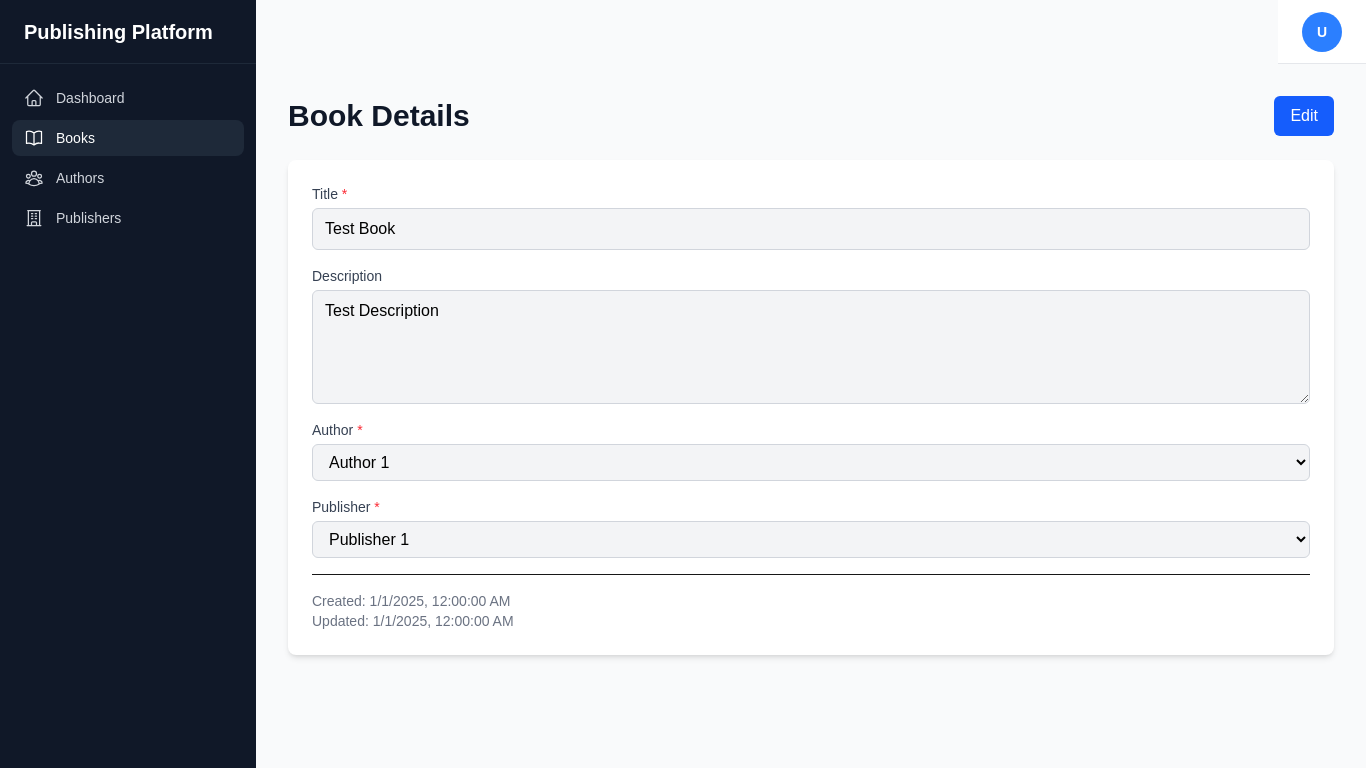
Test case: BookDetailPage › Edit Mode › should show error if required fields are missing
This screenshot has width=1366, height=768.
Click the button "Edit": (1304, 116) [1274,96,1334,136]
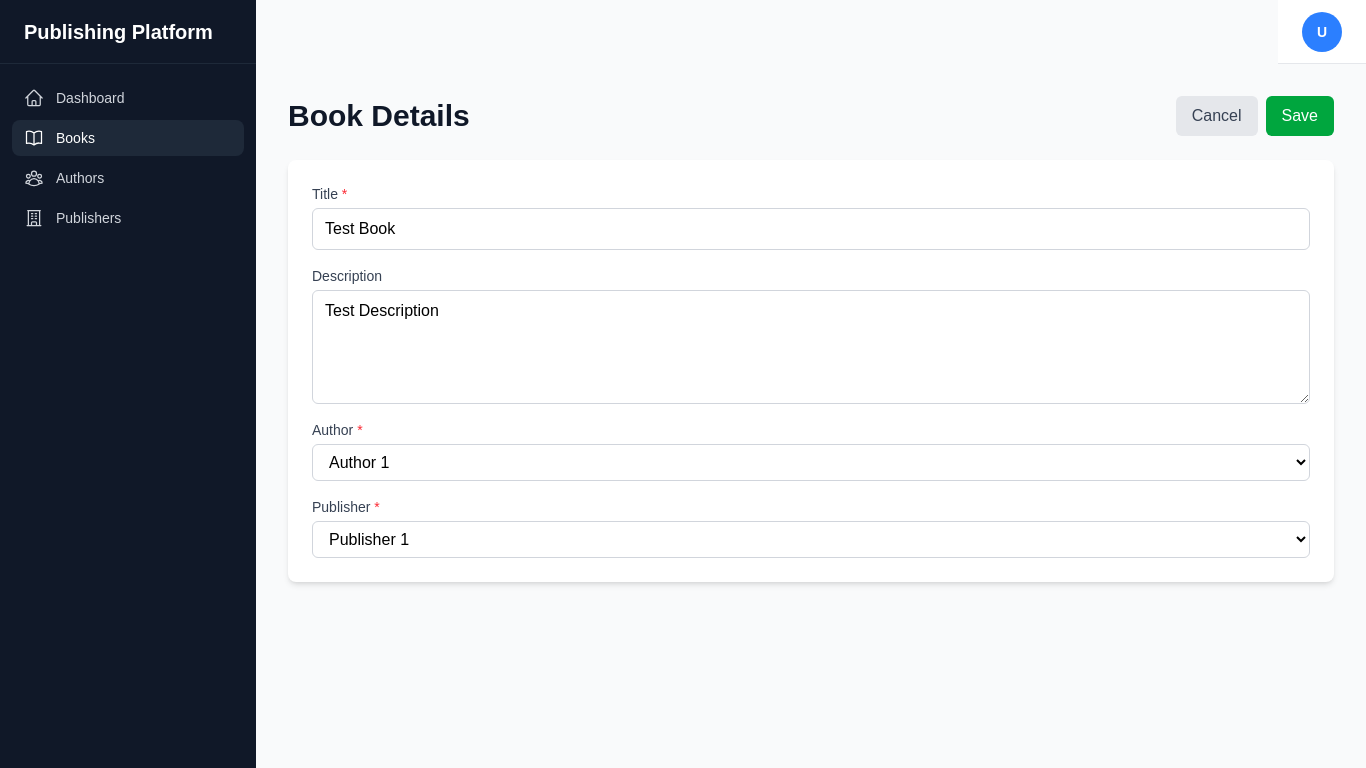
Clear the field showing "Test Book": (811, 229) [312,208,1310,250]
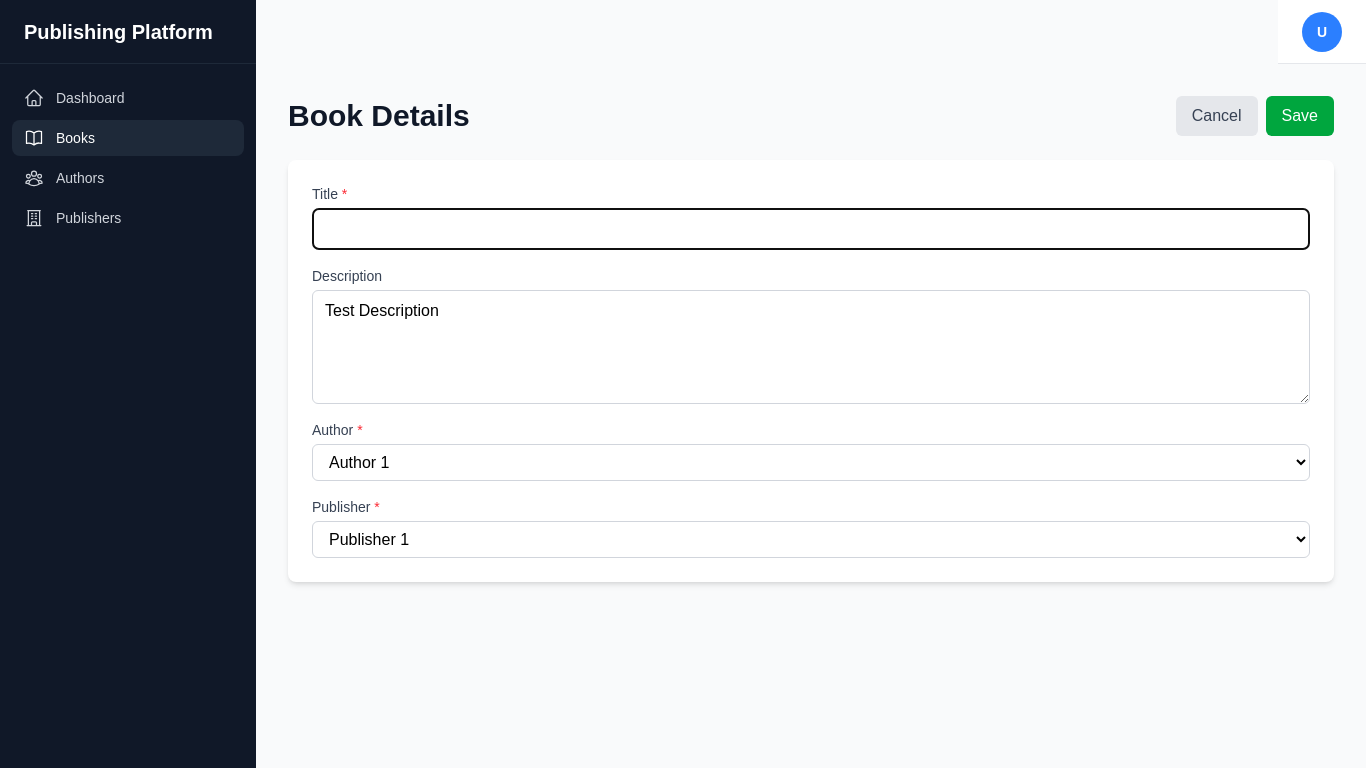
Click the button "Save": (1300, 116) [1266,96,1334,136]
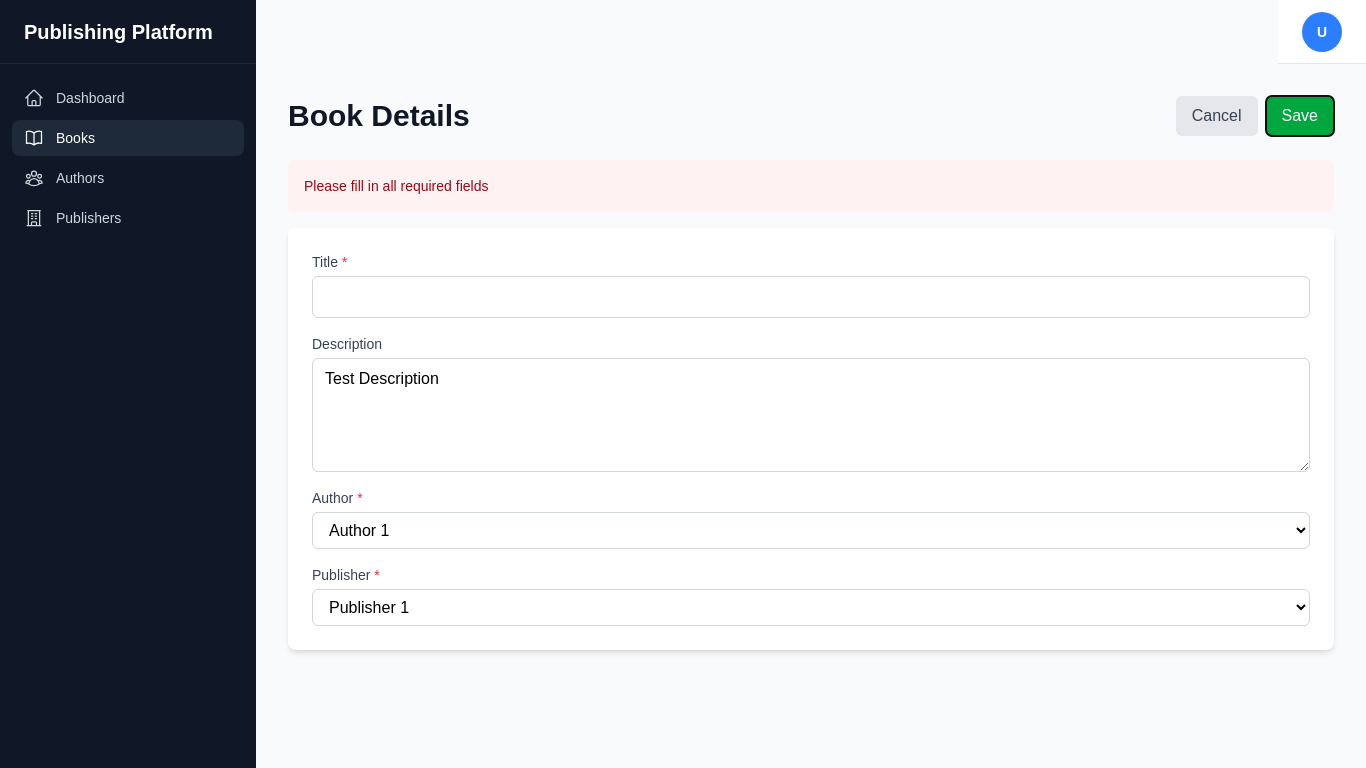
Expected: the text "Please fill in all required fields" is shown, [304,178,488,194]
